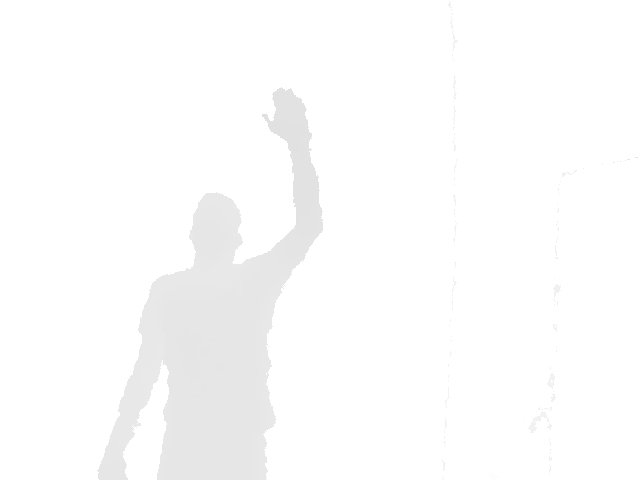hand: (260, 86, 314, 142)
head: (187, 192, 244, 269)
person: (96, 86, 326, 480)
